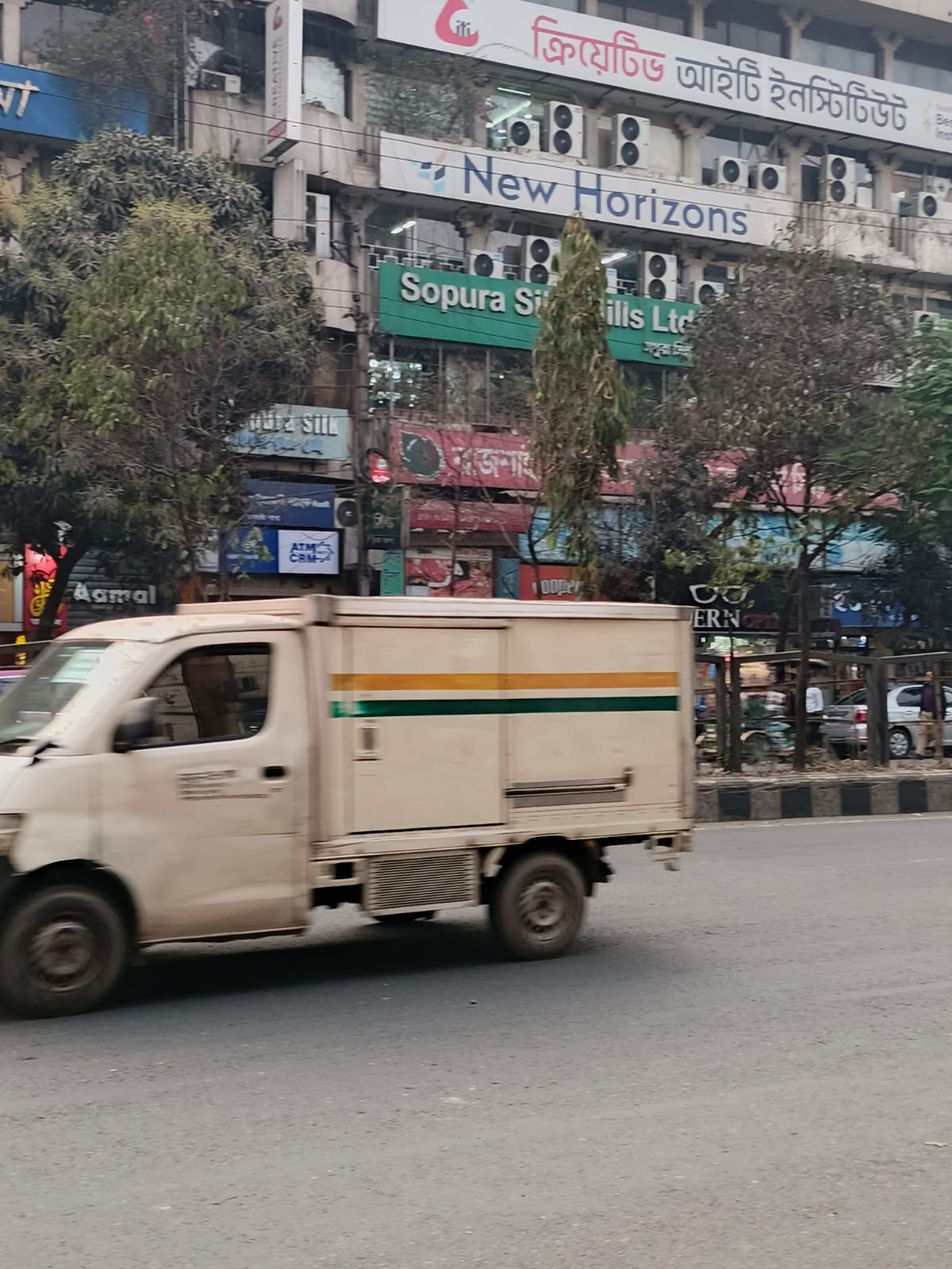Pickup: (0, 569, 745, 982)
cng: (747, 665, 827, 791)
private car: (833, 654, 952, 786)
